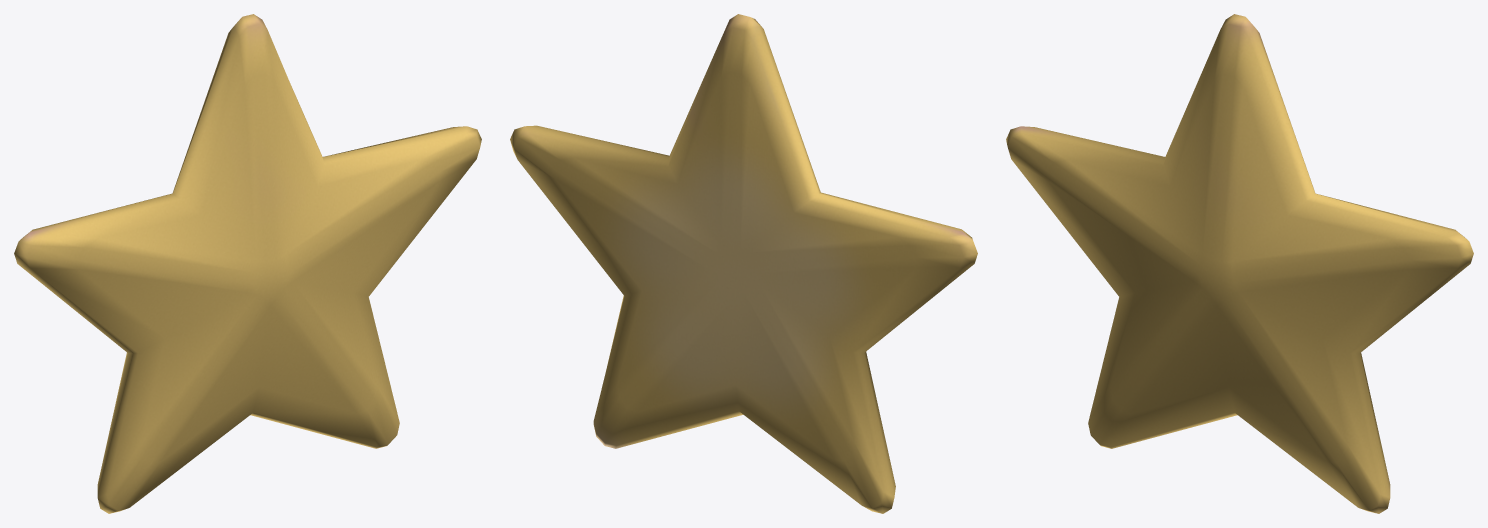
File: Starfish_01.fbx
The picture shows the model from 3 angles, left to right: view 1: azimuth 30°, elevation 25°; view 2: azimuth 150°, elevation 25°; view 3: azimuth 330°, elevation 25°; orthographic projection.
Visible parts, largest first — view 1: Starfish01; view 2: Starfish01; view 3: Starfish01.
Part boxes in pixels (x1,y1,x2,y2): Starfish01: (14,14,481,513); Starfish01: (510,14,977,513); Starfish01: (1006,14,1473,513).
Bounding box in the file's own units: 1.78 × 1.69 × 0.2107.
Materials: 1 (1 with a texture image).
